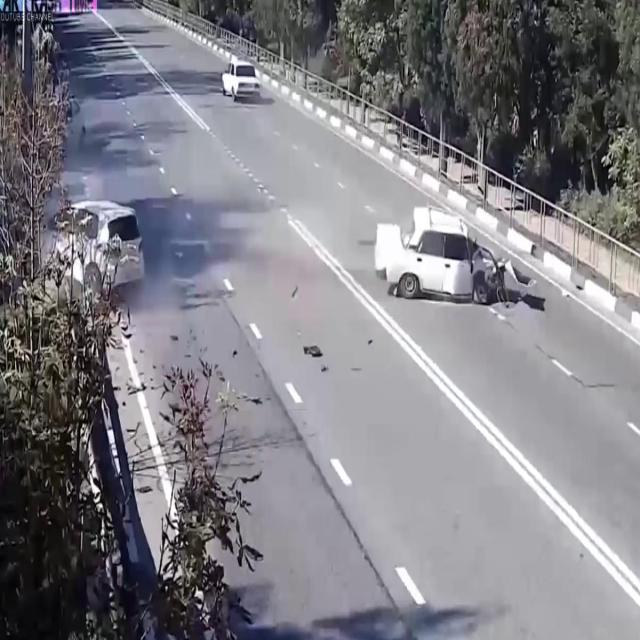accident: (364, 197, 544, 321)
